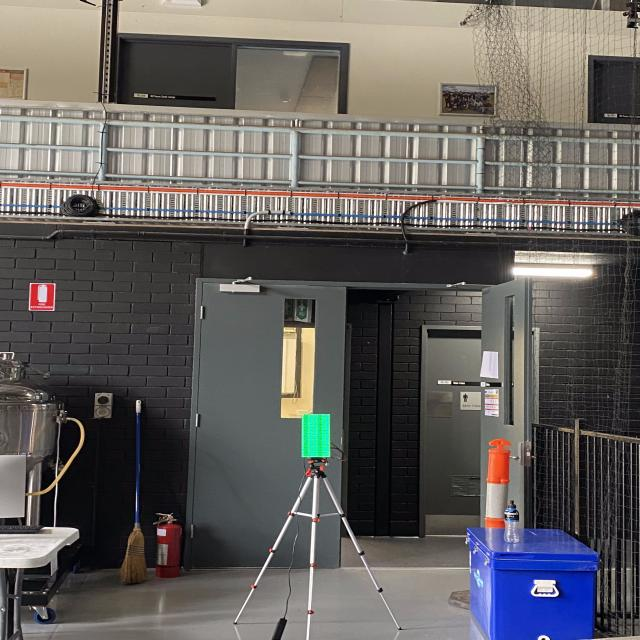matrix: (296, 409, 339, 462)
